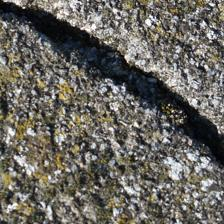Crack: (5, 1, 213, 161)
